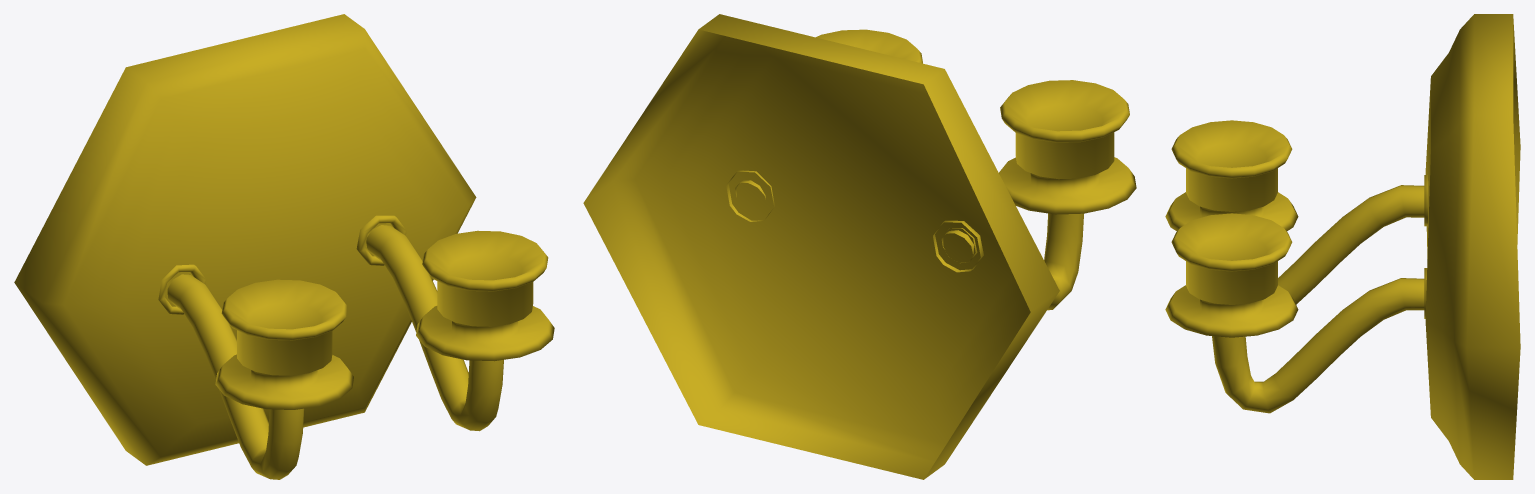
The model's file is CandleWallMount.fbx.
3 renders of one model, left to right at view 1: azimuth 30°, elevation 25°; view 2: azimuth 150°, elevation 25°; view 3: azimuth 270°, elevation 25°, orthographic. The views are drawn at different scales.
Visible parts, largest first — view 1: CandleWallMount; view 2: CandleWallMount; view 3: CandleWallMount.
Part boxes in pixels (x1=…): CandleWallMount: x1=14, y1=14, x2=554, y2=479; CandleWallMount: x1=583, y1=14, x2=1136, y2=479; CandleWallMount: x1=1165, y1=14, x2=1520, y2=479.
Bounding box in the file's own units: 96.08 × 81.17 × 71.67.
